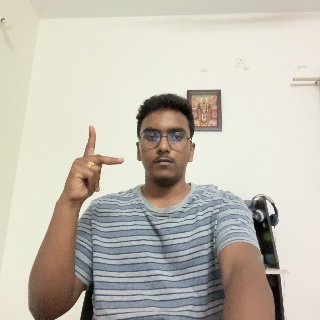Face: (135, 106, 191, 182)
Okay: (62, 126, 124, 207)
